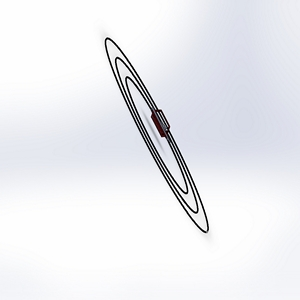circle: (80, 32, 220, 242)
submarine: (146, 103, 175, 144)
